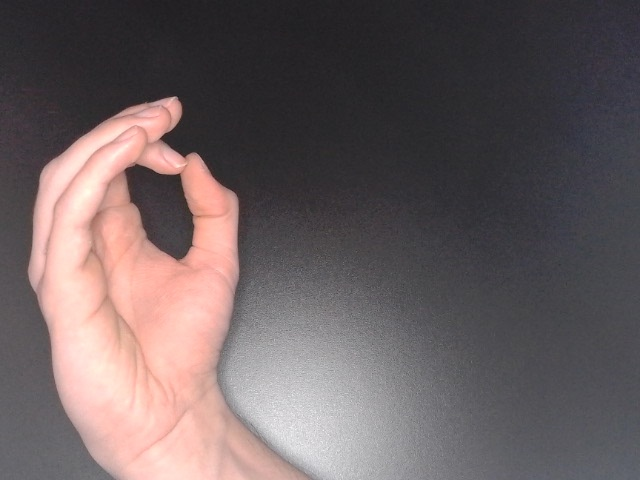o: (22, 92, 246, 476)
